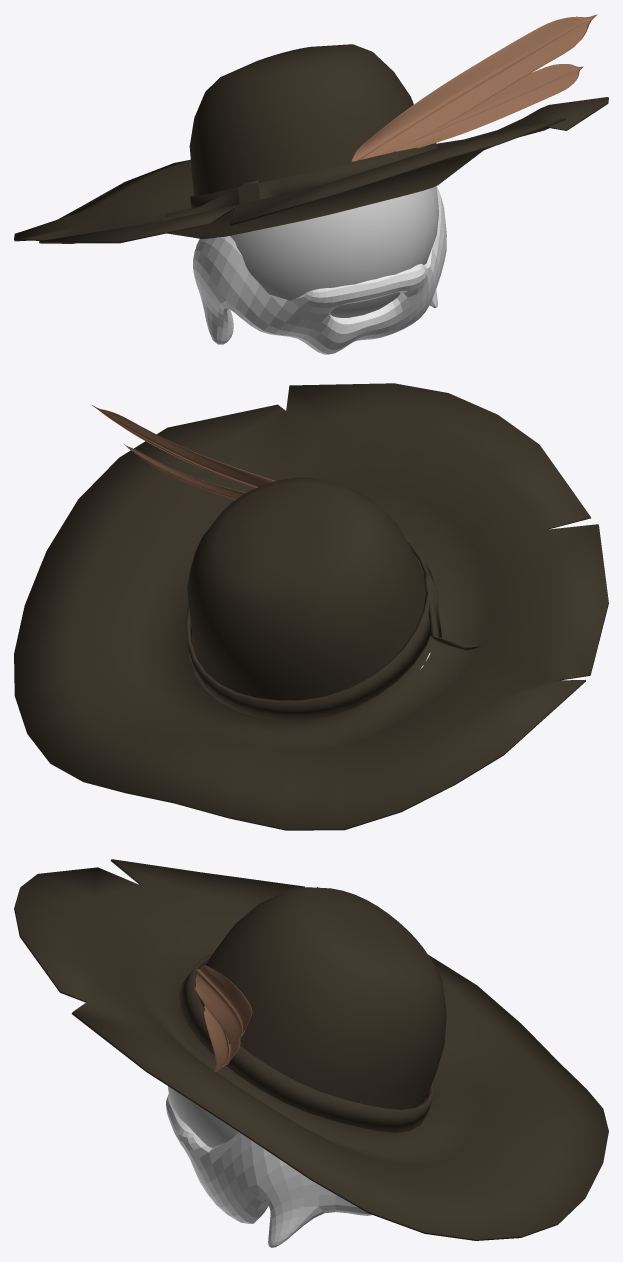
The model's file is barbossa2.fbx.
3 views of the same model, one above another, from view 1: azimuth 30°, elevation 25°; view 2: azimuth 150°, elevation 25°; view 3: azimuth 270°, elevation 25° (orthographic). The views are drawn at different scales.
Parts seen in each view (by area): view 1: Sphere, Sphere.001, Cube, Cone, Cone.001; view 2: Sphere, Cone, Cone.001; view 3: Sphere, Cube, Cone, Sphere.001, Cone.001.
Boxes of the visible parts, x1,y1,x2,y2 form: Sphere: [14, 44, 608, 243]; Sphere.001: [230, 186, 438, 317]; Cube: [193, 187, 446, 354]; Cone: [351, 14, 597, 161]; Cone.001: [395, 64, 583, 151]; Sphere: [14, 383, 608, 830]; Cone: [92, 405, 275, 488]; Cone.001: [124, 444, 245, 500]; Sphere: [14, 859, 608, 1240]; Cube: [166, 1093, 371, 1247]; Cone: [195, 965, 252, 1044]; Sphere.001: [168, 1086, 238, 1147]; Cone.001: [203, 1005, 240, 1072].
Size of the model in its own units: 509 by 241 by 448.
